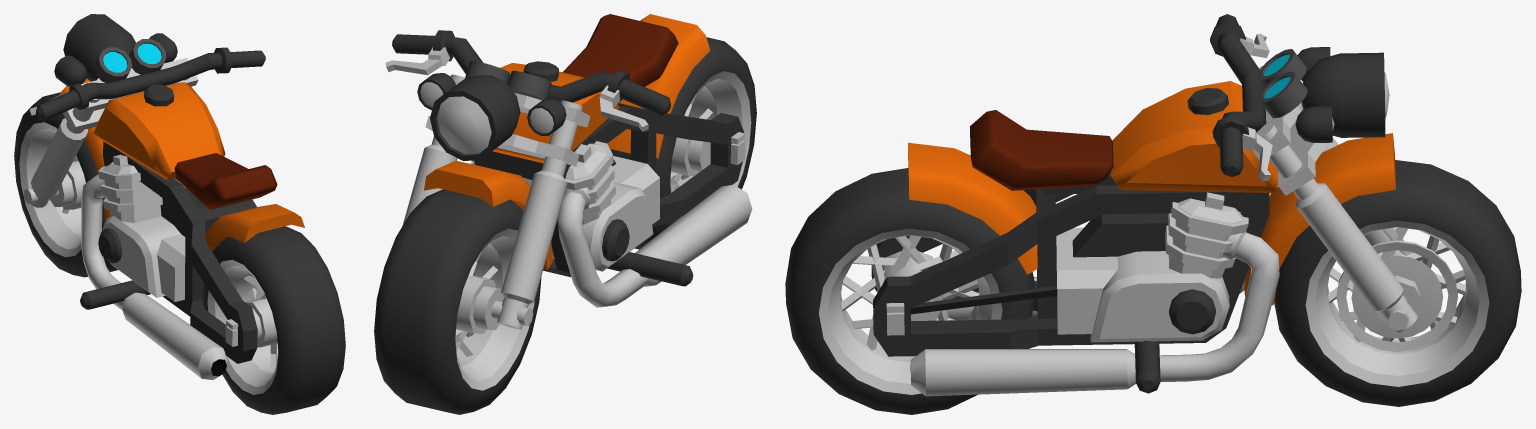
The model's file is bike.fbx.
The picture shows the model from 3 angles, left to right: view 1: azimuth 30°, elevation 25°; view 2: azimuth 150°, elevation 25°; view 3: azimuth 270°, elevation 25°; orthographic projection. The views are drawn at different scales.
Parts seen in each view (by area): view 1: bike; view 2: bike; view 3: bike.
Boxes of the visible parts, x1,y1,x2,y2 form: bike: (14, 14, 345, 414); bike: (374, 14, 756, 414); bike: (785, 14, 1521, 414).
Bounding box in the file's own units: 114 × 124 × 240.
